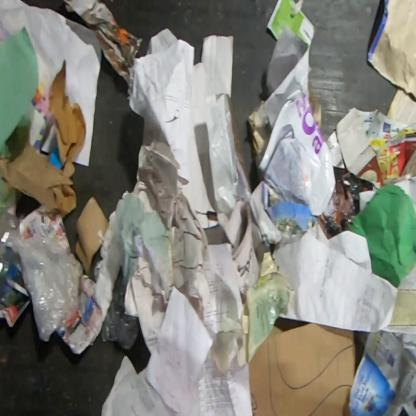cardboard: (207, 250, 296, 376), (249, 321, 357, 416), (0, 139, 78, 221), (48, 62, 86, 170), (335, 106, 384, 185), (74, 196, 109, 276), (201, 34, 234, 98), (247, 100, 271, 156), (309, 83, 323, 130)
rigid_plastic: (258, 89, 336, 217)
soft_plastic: (0, 178, 99, 346), (203, 94, 251, 217), (100, 266, 139, 352)
